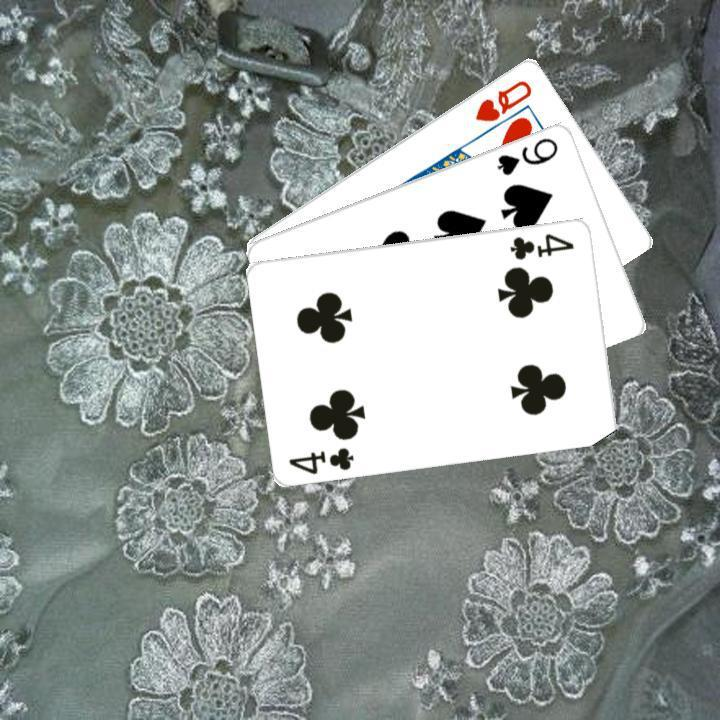4: (284, 442, 357, 476), (506, 228, 577, 261)
9: (492, 133, 561, 177)
Q: (470, 75, 534, 124)
